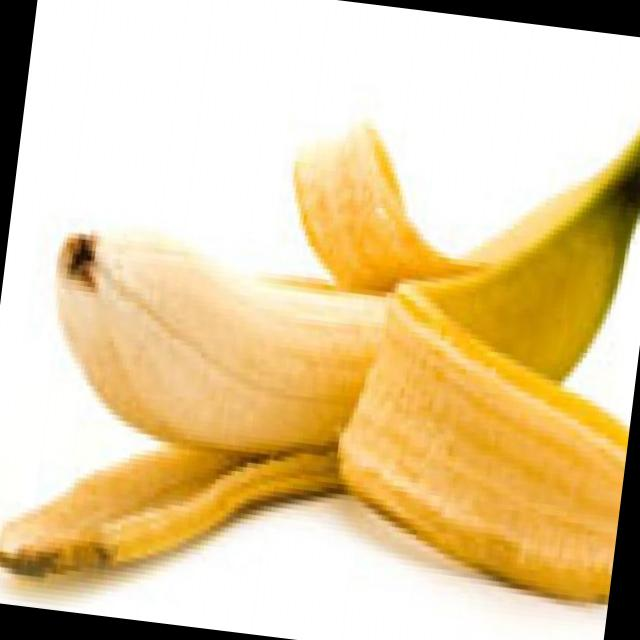banana: (20, 126, 640, 517)
